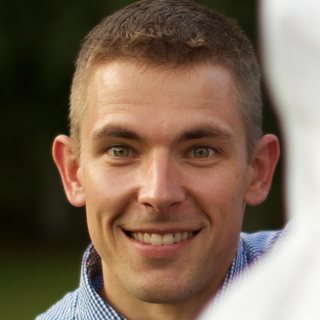eye: (179, 142, 225, 165), (96, 141, 141, 161)
